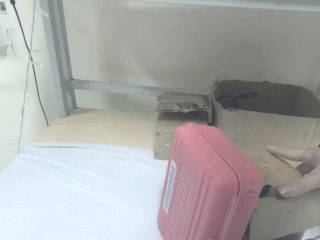box: (159, 120, 262, 240), (209, 77, 320, 167), (153, 95, 211, 161)
